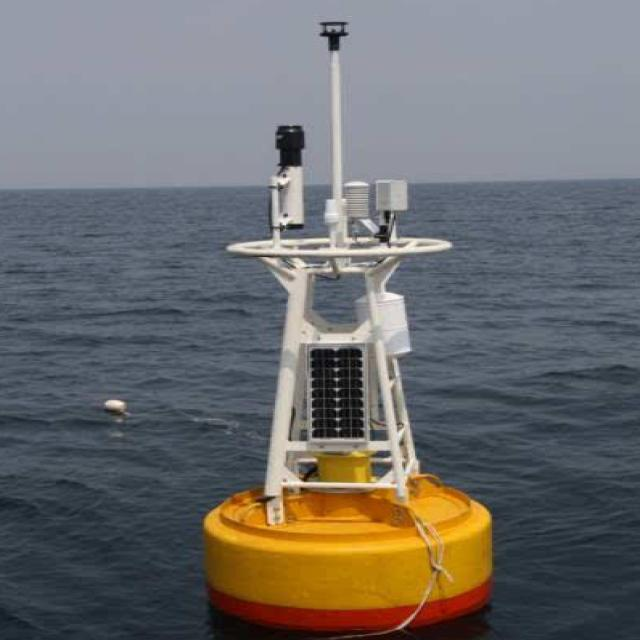buoy: (179, 12, 506, 634)
